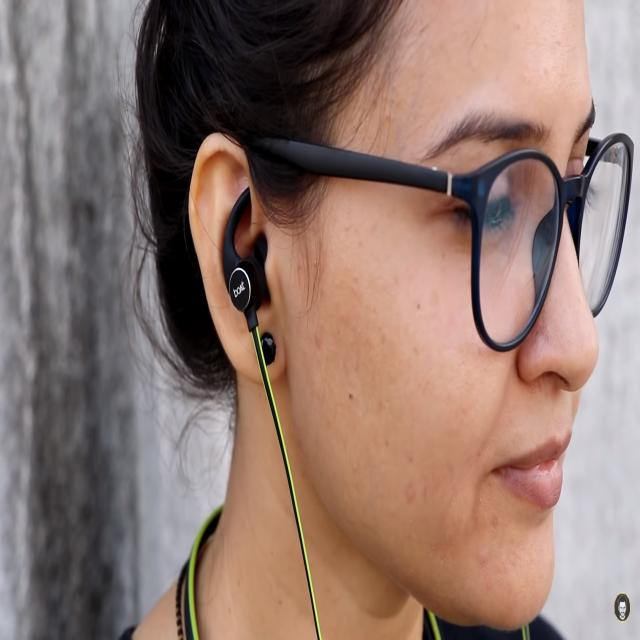Neckband: (182, 184, 321, 640)
